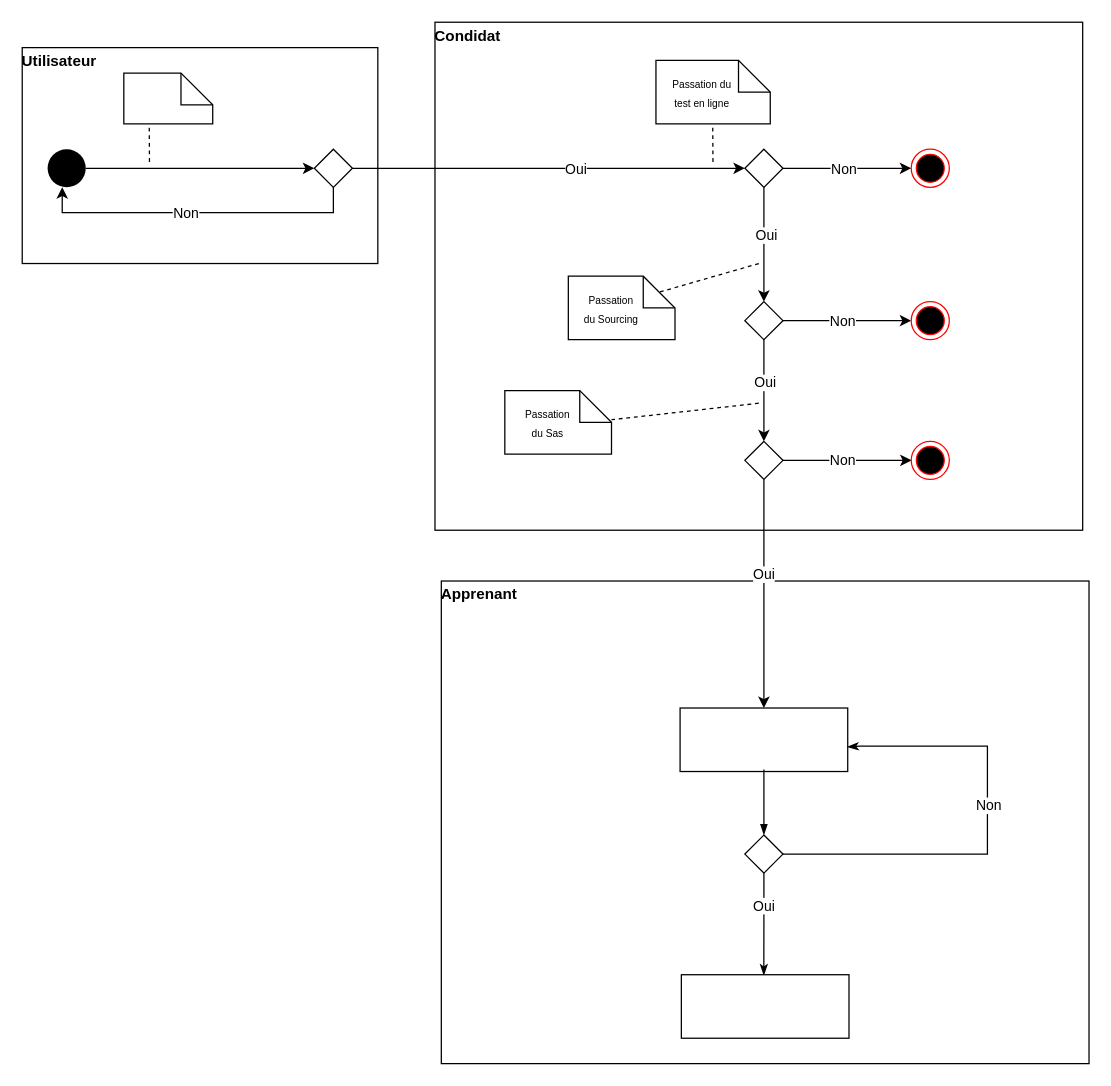
This 1111x1086 diagram has some shape labels left out. Here are the shapes that lost their labels. From the top down, the box of each, then its label:
(123, 72, 213, 124): Inscription
(679, 707, 848, 772): Passage de premiere année
(680, 973, 849, 1038): Passage de deuxieme année
